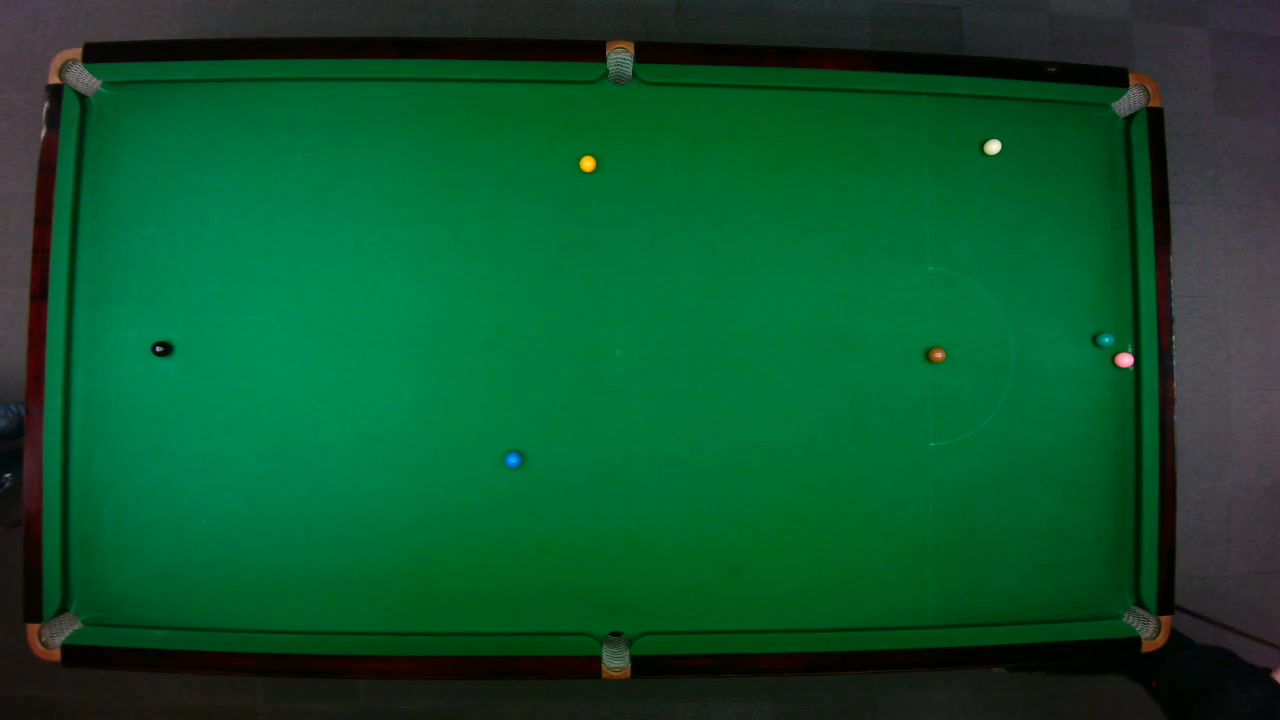bag: (25, 609, 83, 661), (45, 46, 102, 96), (1108, 71, 1161, 118), (1120, 603, 1171, 651), (600, 629, 629, 680), (605, 38, 633, 85)
black: (149, 339, 171, 357)
blue: (504, 450, 522, 468)
brown: (926, 346, 946, 362)
green: (1093, 330, 1114, 347)
pink: (1112, 350, 1135, 368)
white: (981, 137, 1002, 155)
yellow: (577, 153, 597, 173)
zone: (926, 265, 1013, 445)
